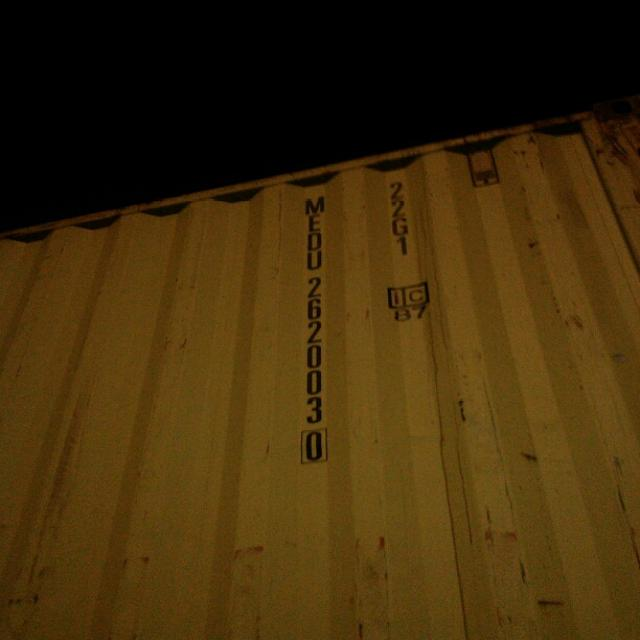rust: (582, 99, 636, 182)
